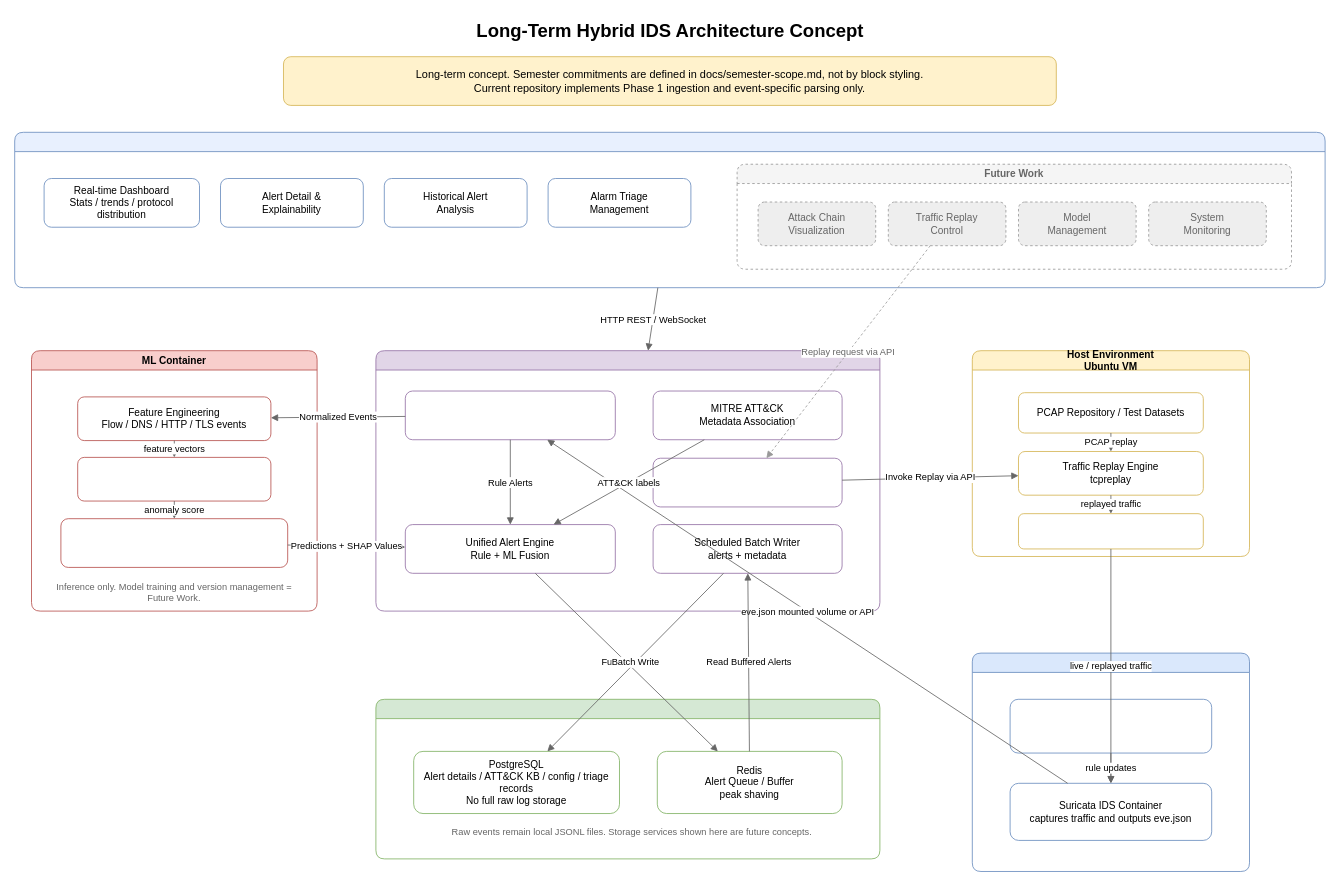
This 1340x886 diagram has some shape labels left out. Here are the shapes that lost their labels. From the top down, the box of each, then its label:
(14, 131, 1325, 288): Frontend Container React + Vite
(404, 390, 615, 440): EVE.JSON Log Tailer + Distributor parse, normalize, distribute
(77, 457, 271, 501): Isolation Forest anomaly inference
(375, 350, 880, 611): FastAPI Backend Container
(652, 457, 842, 507): Replay Task Controller backend-mediated tcpreplay call
(60, 518, 288, 567): Anomaly Engine + SHAP Explainer prediction + explanation values
(1018, 513, 1203, 549): Network Interface / Inbound Traffic
(1009, 698, 1212, 753): Rule Updater Sidecar ET Open rules + JA3 / JA3S fingerprints
(375, 698, 880, 859): Storage Containers
(971, 652, 1250, 872): Suricata IDS Container Group Host Network Mode
